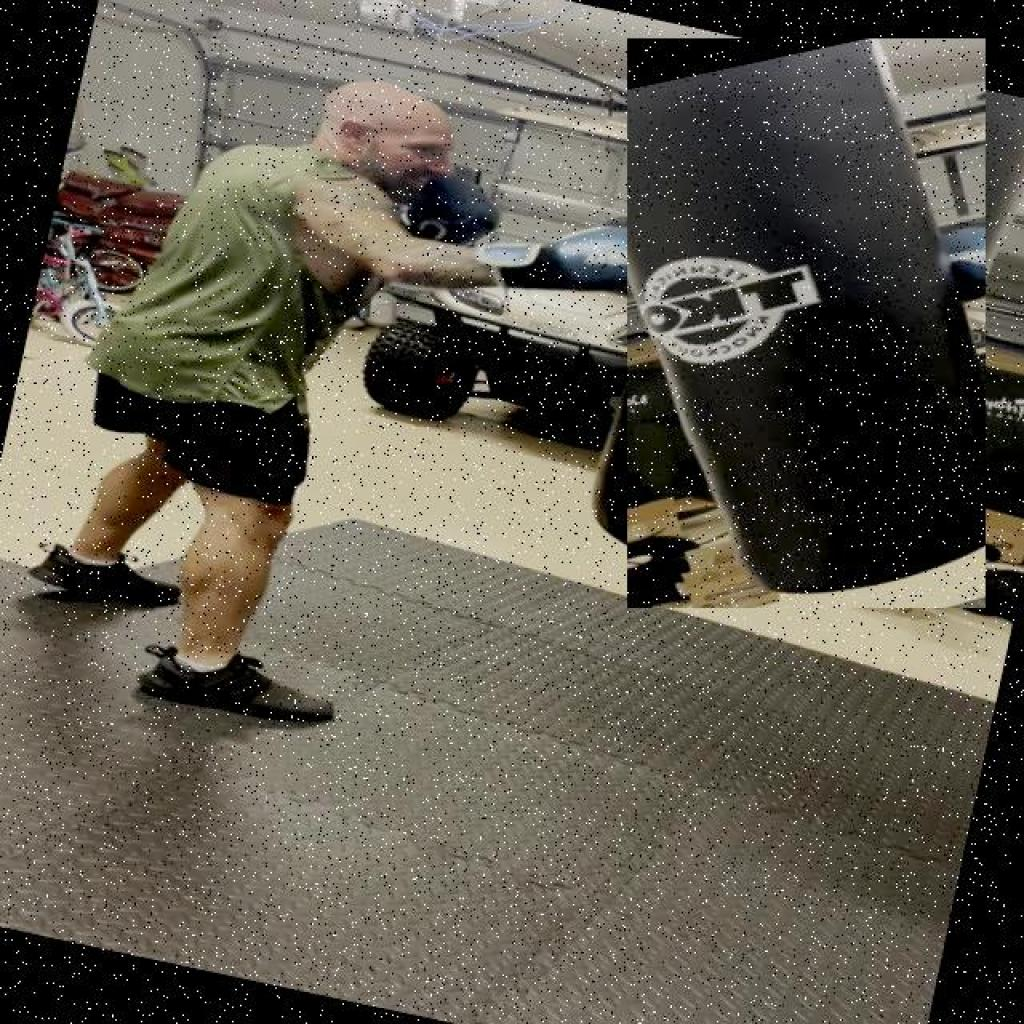bag: (627, 38, 985, 609)
jab: (130, 21, 792, 443)
